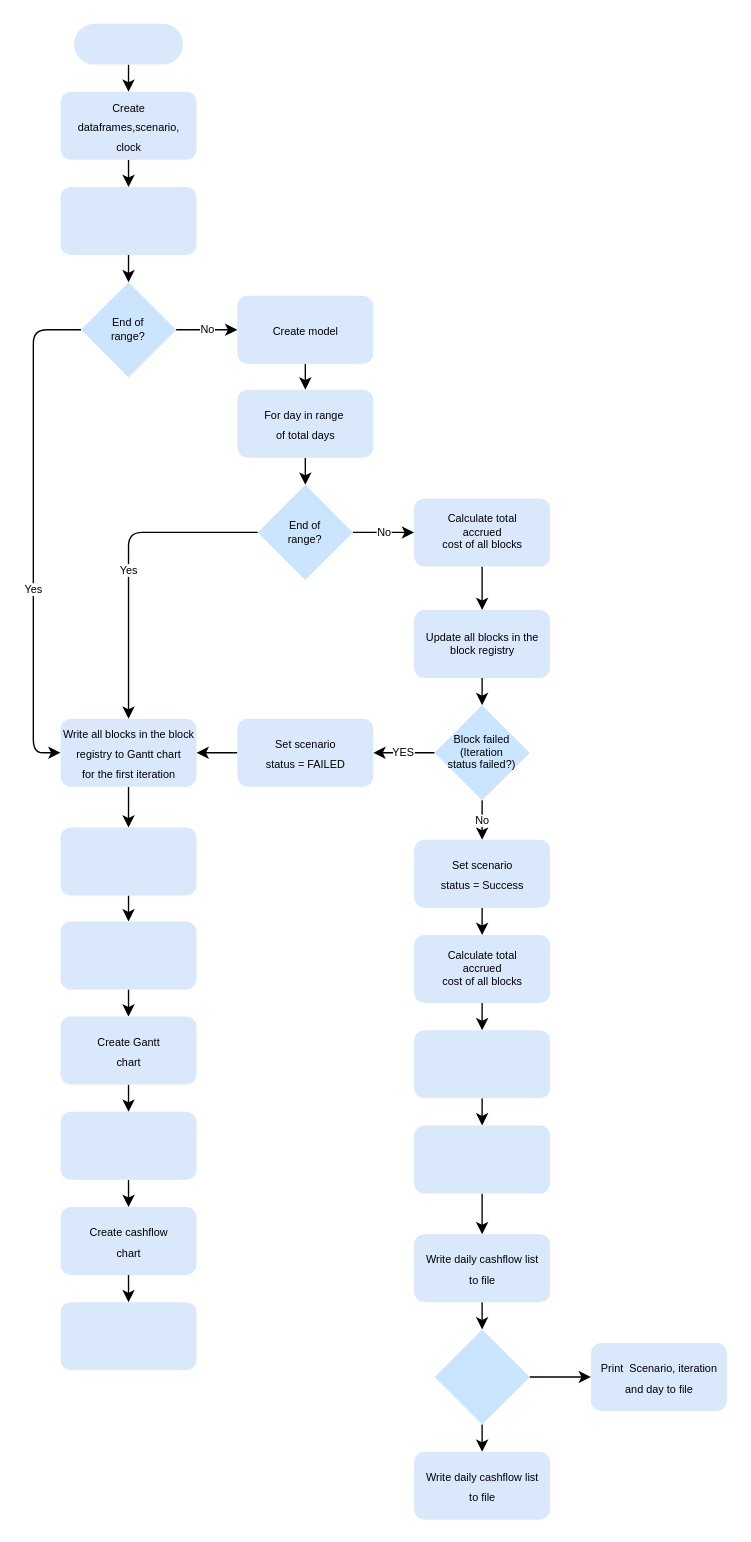
Image size: 751x1542. Some labels were removed from this diagram. Here are the shapes that lost their labels. From the top down, the centre of each, then its label:
At (x=127, y=43): "Start".
At (x=128, y=220): "For iteration in range of total iterations".
At (x=128, y=861): "Write the total cost of the scenario to the iteration list".
At (x=128, y=955): "Create simulation histogram".
At (x=481, y=1064): "Calculate cashflow".
At (x=128, y=1145): "Create simulation summary".
At (x=481, y=1159): "Set scenario total cost = total cost + cashflow".
At (x=128, y=1336): "Write iteration list to file".
At (x=481, y=1376): "View iteration progress?".
